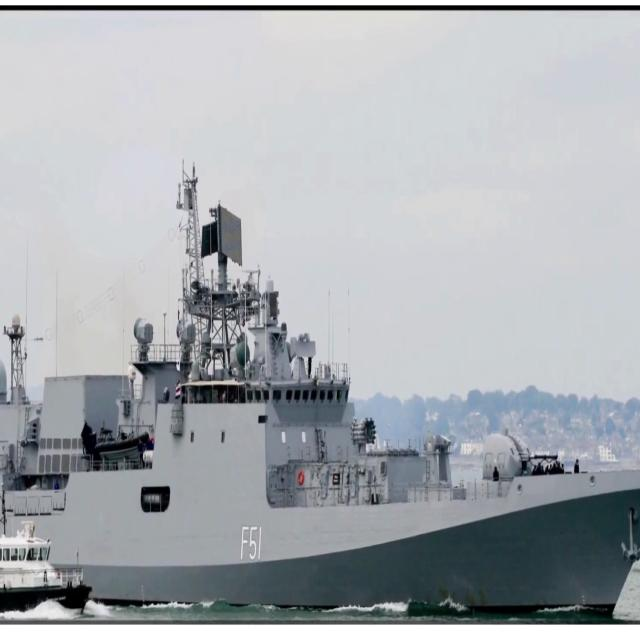OCR: (237, 518, 271, 570)
